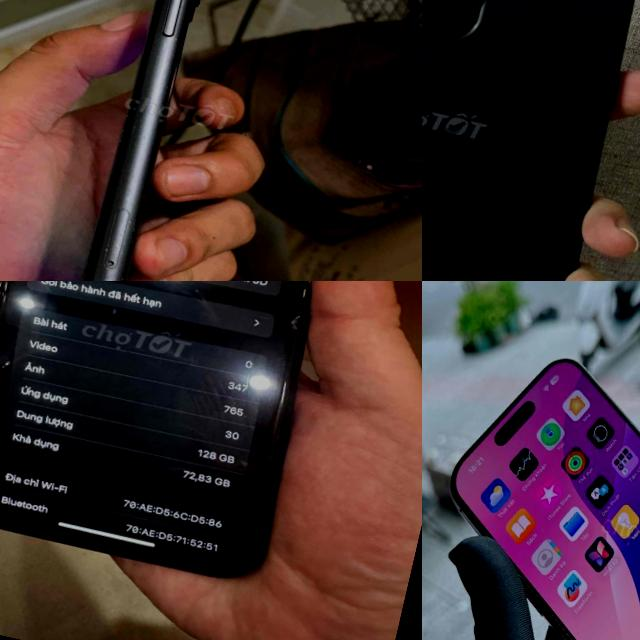gen_11: (0, 281, 378, 620), (82, 0, 199, 281)
gen_14: (422, 0, 640, 281)
gen_16: (422, 334, 640, 640)
physical_damage: (0, 281, 95, 447), (273, 281, 316, 345)
scratch: (82, 233, 140, 267), (109, 199, 150, 239), (145, 23, 186, 61), (121, 111, 162, 149), (112, 271, 130, 281)
